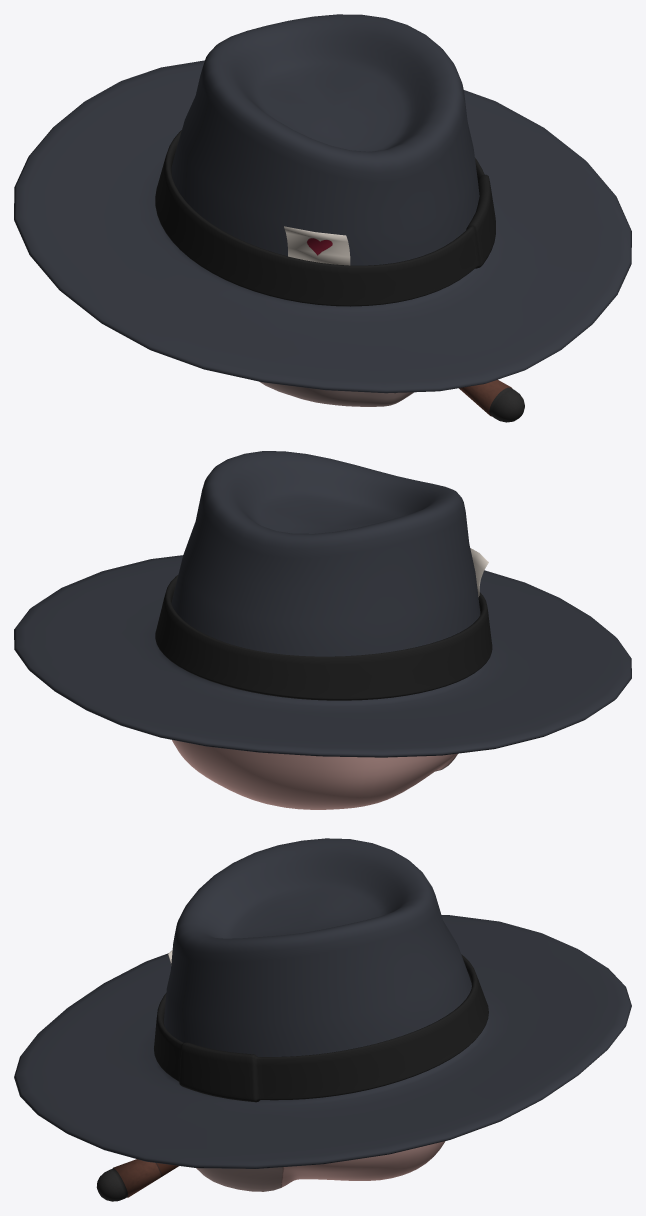
Rendered from Mafia Guy ONE OBJECT.fbx.
3 views of the same model, one above another, from view 1: azimuth 30°, elevation 25°; view 2: azimuth 150°, elevation 25°; view 3: azimuth 270°, elevation 25° (orthographic). The views are drawn at different scales.
Parts seen in each view (by area): view 1: Cube; view 2: Cube; view 3: Cube.
Part boxes in pixels (left/top/right/bottom): Cube: left=14, top=14, right=631, bottom=422; Cube: left=14, top=451, right=631, bottom=809; Cube: left=14, top=838, right=631, bottom=1201.
Size of the model in its own units: 270 by 149 by 291.
6 materials, 3 textured.
